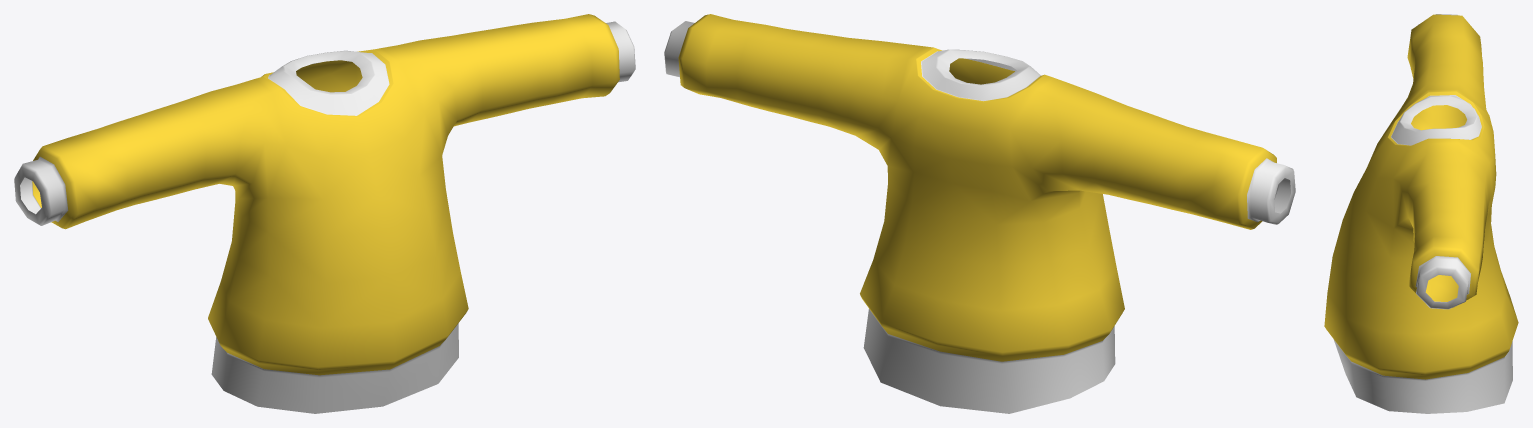
The model's file is Outerwear_Yellow_004.glb.
3 renders of one model, left to right at view 1: azimuth 30°, elevation 25°; view 2: azimuth 150°, elevation 25°; view 3: azimuth 270°, elevation 25°, orthographic. The views are drawn at different scales.
Visible parts, largest first — view 1: Outerwear_Yellow_004; view 2: Outerwear_Yellow_004; view 3: Outerwear_Yellow_004.
Boxes of the visible parts, x1=… form: Outerwear_Yellow_004: x1=14, y1=14, x2=635, y2=413; Outerwear_Yellow_004: x1=664, y1=14, x2=1295, y2=413; Outerwear_Yellow_004: x1=1324, y1=14, x2=1518, y2=413.
Size of the model in its own units: 1.29 by 0.637 by 0.4186.
Materials: 1 (1 with a texture image).
